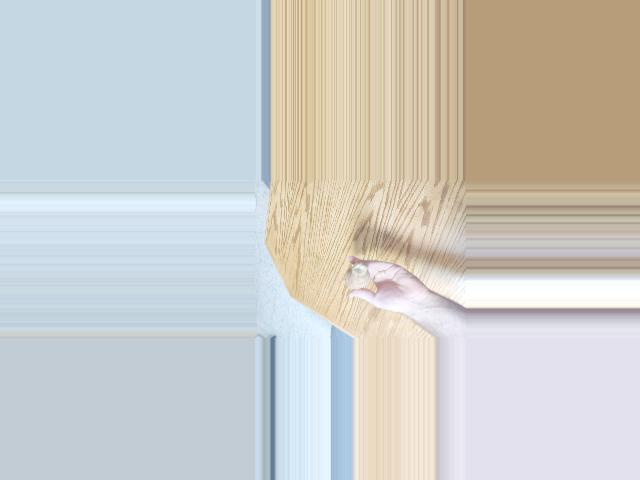sweet_potato: (342, 265, 369, 290)
